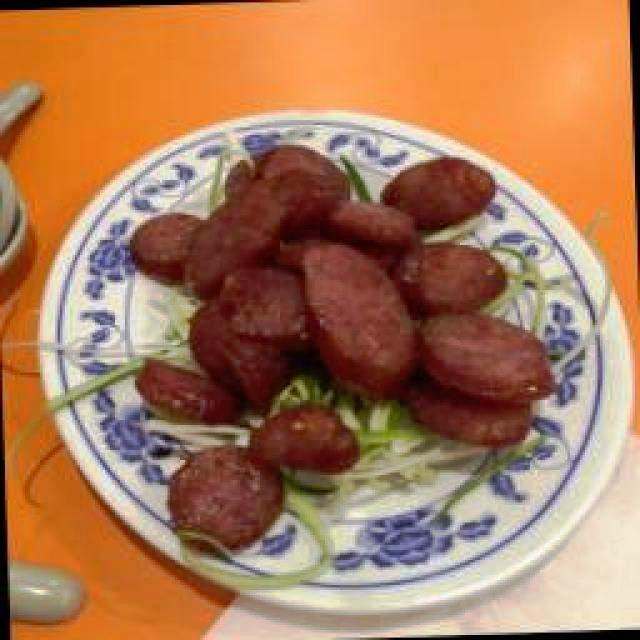chinese_sausage: (129, 146, 552, 551)
